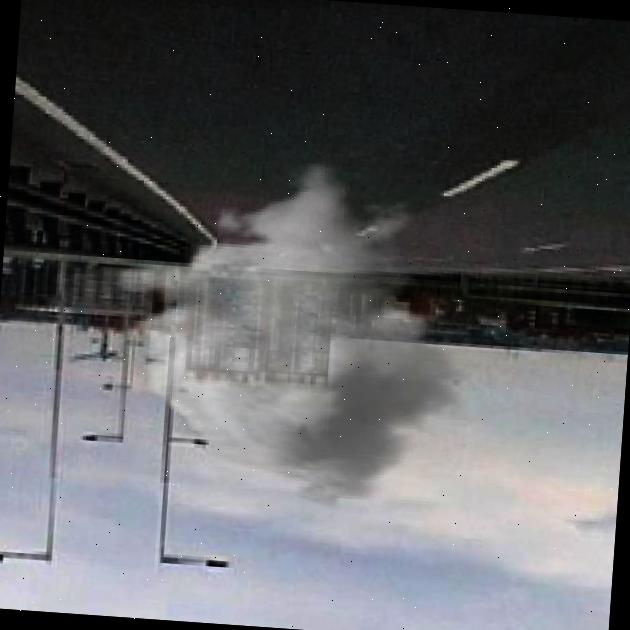smoke: (91, 148, 485, 518)
